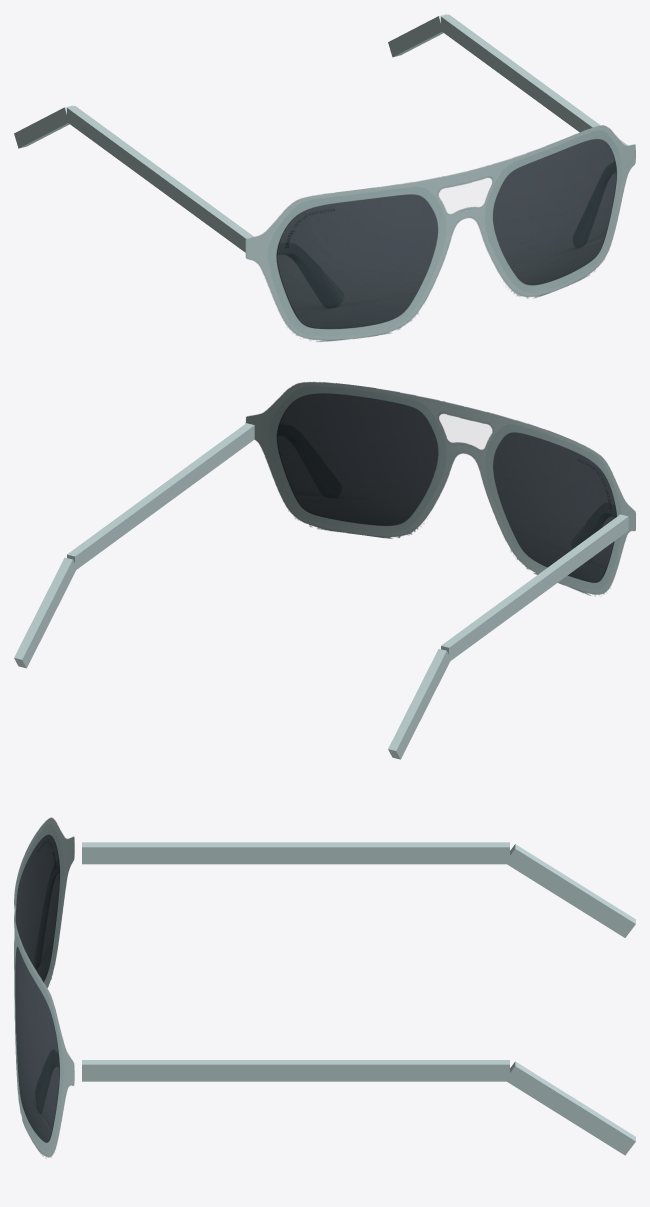
The picture shows the model from 3 angles, top to bottom: view 1: azimuth 30°, elevation 25°; view 2: azimuth 150°, elevation 25°; view 3: azimuth 270°, elevation 25°; orthographic projection. The views are drawn at different scales.
Visible parts, largest first — view 1: anteojo; view 2: anteojo; view 3: anteojo.
Boxes of the visible parts, <box> form: anteojo: <box>14,14,635,341</box>; anteojo: <box>14,382,635,759</box>; anteojo: <box>14,817,635,1158</box>.
Bounding box in the file's own units: 0.142 × 0.0518 × 0.1644.
2 materials, 1 textured.
